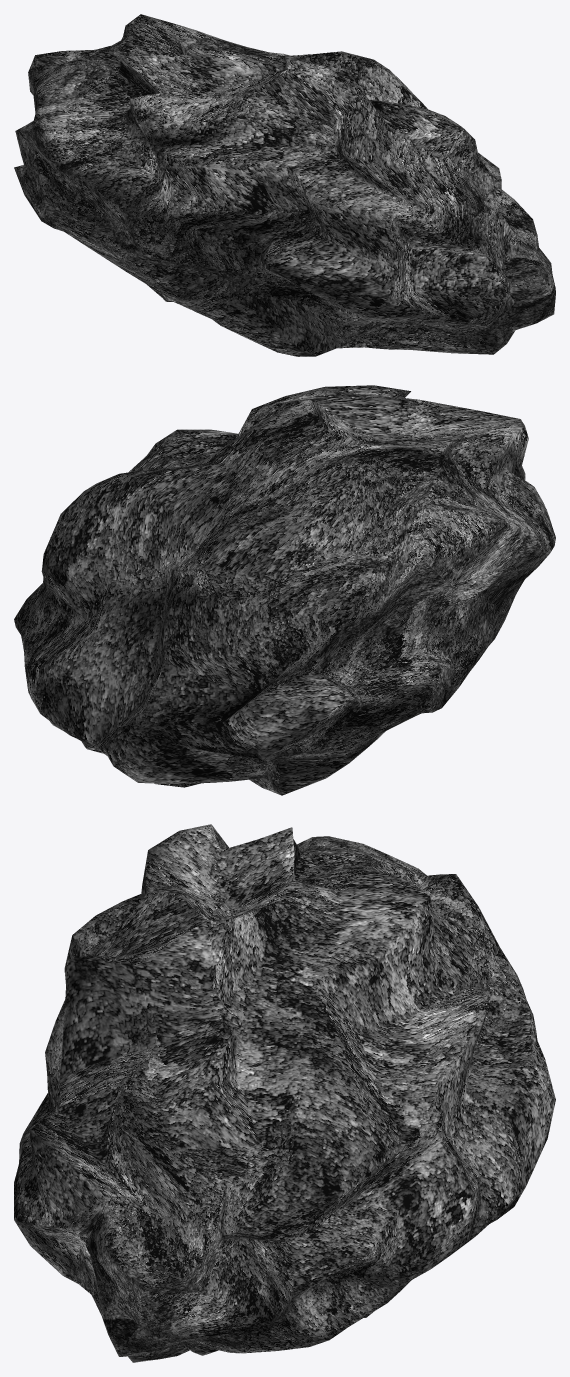
File: Small Rock.FBX
3 views of the same model, one above another, from view 1: azimuth 30°, elevation 25°; view 2: azimuth 150°, elevation 25°; view 3: azimuth 270°, elevation 25° (orthographic). The views are drawn at different scales.
Visible parts, largest first — view 1: GeoSphere017; view 2: GeoSphere017; view 3: GeoSphere017.
Part boxes in pixels (x1,y1,x2,y2): GeoSphere017: [14, 14, 555, 356]; GeoSphere017: [14, 385, 555, 795]; GeoSphere017: [14, 824, 555, 1362].
Bounding box in the file's own units: 133 × 91.42 × 119.
1 material, 1 textured.
